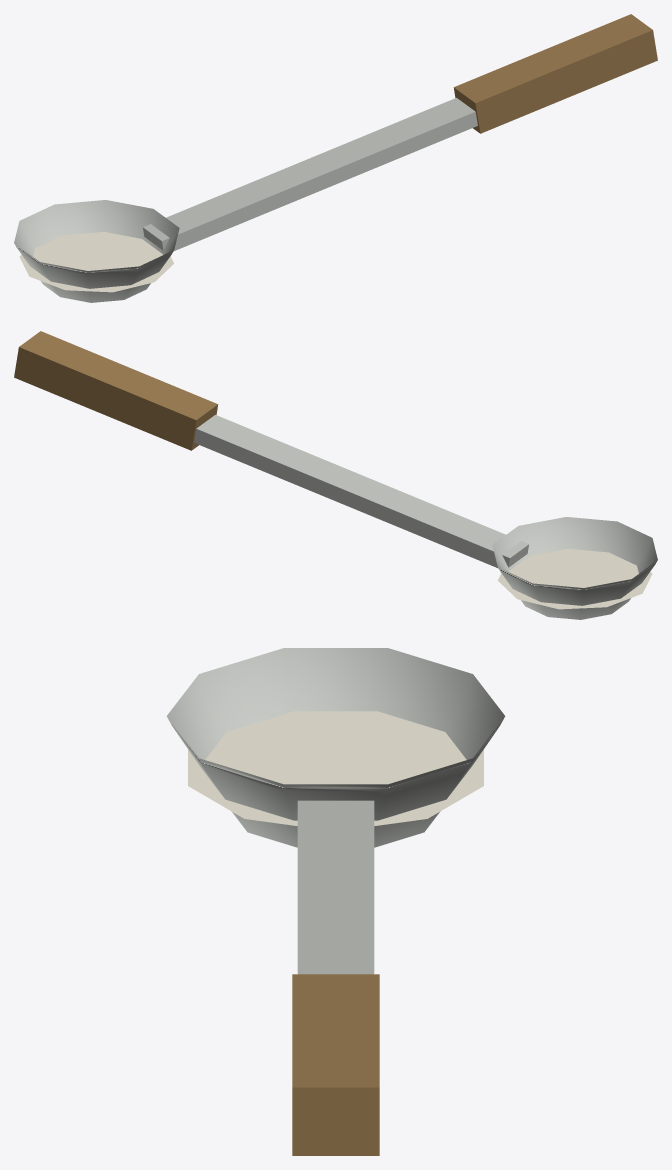
File: MuoiMucChao.glb
The picture shows the model from 3 angles, top to bottom: view 1: azimuth 30°, elevation 25°; view 2: azimuth 150°, elevation 25°; view 3: azimuth 270°, elevation 25°; orthographic projection. The views are drawn at different scales.
Parts seen in each view (by area): view 1: MuoiMucChao_Can, MuoiMucChao_Can_Go, MuoiMucChao_Long, MuoiMucChao_VetChao; view 2: MuoiMucChao_Can, MuoiMucChao_Can_Go, MuoiMucChao_Long, MuoiMucChao_VetChao; view 3: MuoiMucChao_Long, MuoiMucChao_VetChao, MuoiMucChao_Can_Go, MuoiMucChao_Can.
Part boxes in pixels (x1=…): MuoiMucChao_Can: x1=143, y1=98, x2=477, y2=251; MuoiMucChao_Can_Go: x1=453, y1=14, x2=657, y2=133; MuoiMucChao_Long: x1=14, y1=200, x2=179, y2=302; MuoiMucChao_VetChao: x1=19, y1=232, x2=173, y2=292; MuoiMucChao_Can: x1=194, y1=415, x2=528, y2=568; MuoiMucChao_Can_Go: x1=14, y1=331, x2=218, y2=450; MuoiMucChao_Long: x1=492, y1=517, x2=657, y2=619; MuoiMucChao_VetChao: x1=498, y1=549, x2=652, y2=609; MuoiMucChao_Long: x1=166, y1=648, x2=505, y2=847; MuoiMucChao_VetChao: x1=188, y1=711, x2=483, y2=825; MuoiMucChao_Can_Go: x1=292, y1=974, x2=379, y2=1155; MuoiMucChao_Can: x1=297, y1=800, x2=374, y2=974.
Size of the model in its own units: 0.262 by 0.0545 by 0.062.
